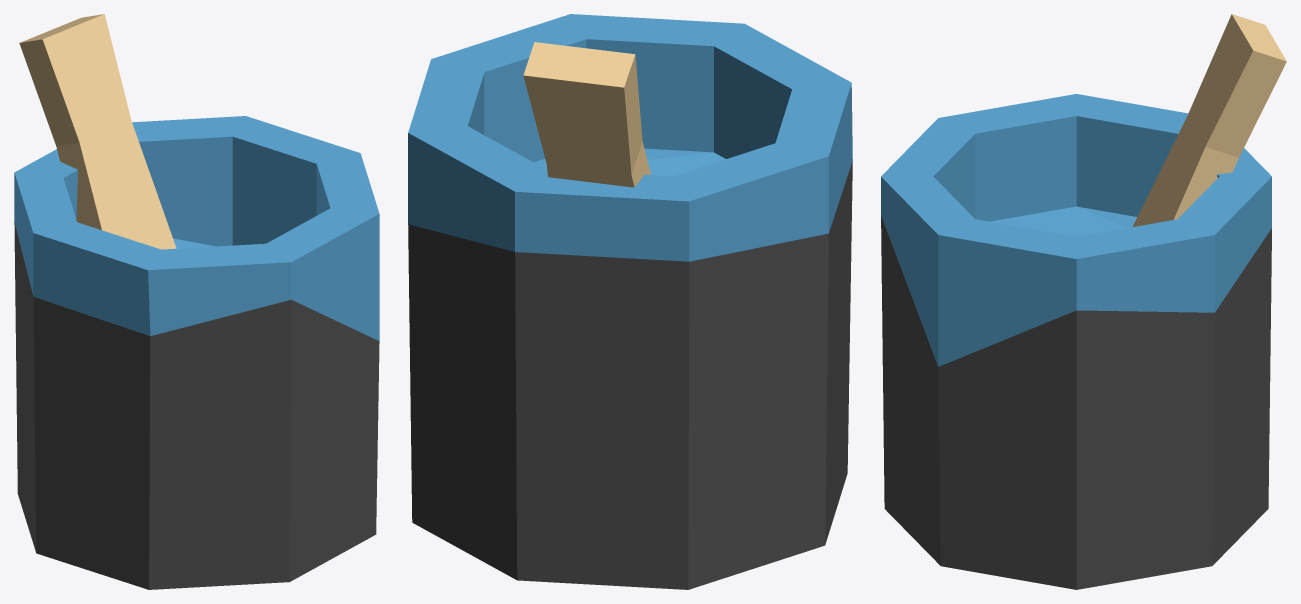
Rendered from thungson4.fbx.
3 views of the same model, side by side, from view 1: azimuth 30°, elevation 25°; view 2: azimuth 150°, elevation 25°; view 3: azimuth 270°, elevation 25° (orthographic). The views are drawn at different scales.
Visible parts, largest first — view 1: thungson4; view 2: thungson4; view 3: thungson4.
Part boxes in pixels (<box>): thungson4: <box>14,14,379,589</box>; thungson4: <box>408,14,852,589</box>; thungson4: <box>881,14,1286,589</box>.
Bounding box in the file's own units: 65.22 × 83.67 × 67.7.
